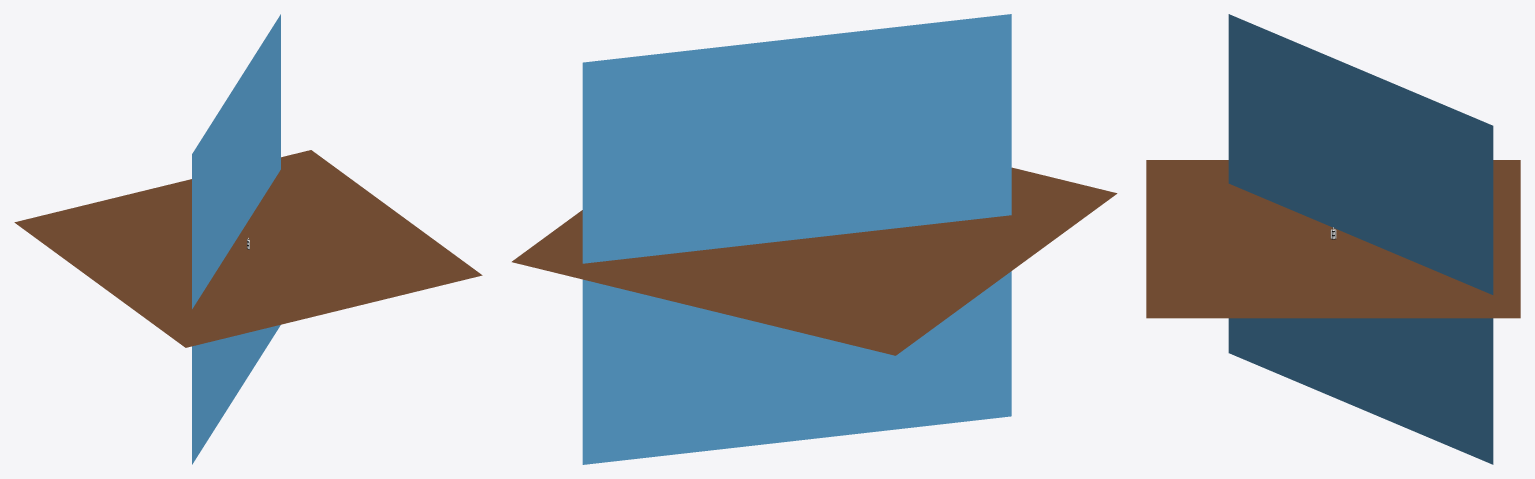
File: Rocket.fbx
The picture shows the model from 3 angles, left to right: view 1: azimuth 30°, elevation 25°; view 2: azimuth 150°, elevation 25°; view 3: azimuth 270°, elevation 25°; orthographic projection. The views are drawn at different scales.
Parts seen in each view (by area): view 1: Plane, Plane.001; view 2: Plane.001, Plane; view 3: Plane.001, Plane.
Part boxes in pixels (<box>): Plane: <box>14,150,482,347</box>; Plane.001: <box>192,14,280,464</box>; Plane.001: <box>582,14,1011,464</box>; Plane: <box>512,167,1117,355</box>; Plane.001: <box>1228,14,1493,464</box>; Plane: <box>1146,160,1520,318</box>.
Bounding box in the file's own units: 50000 × 50000 × 50000.
